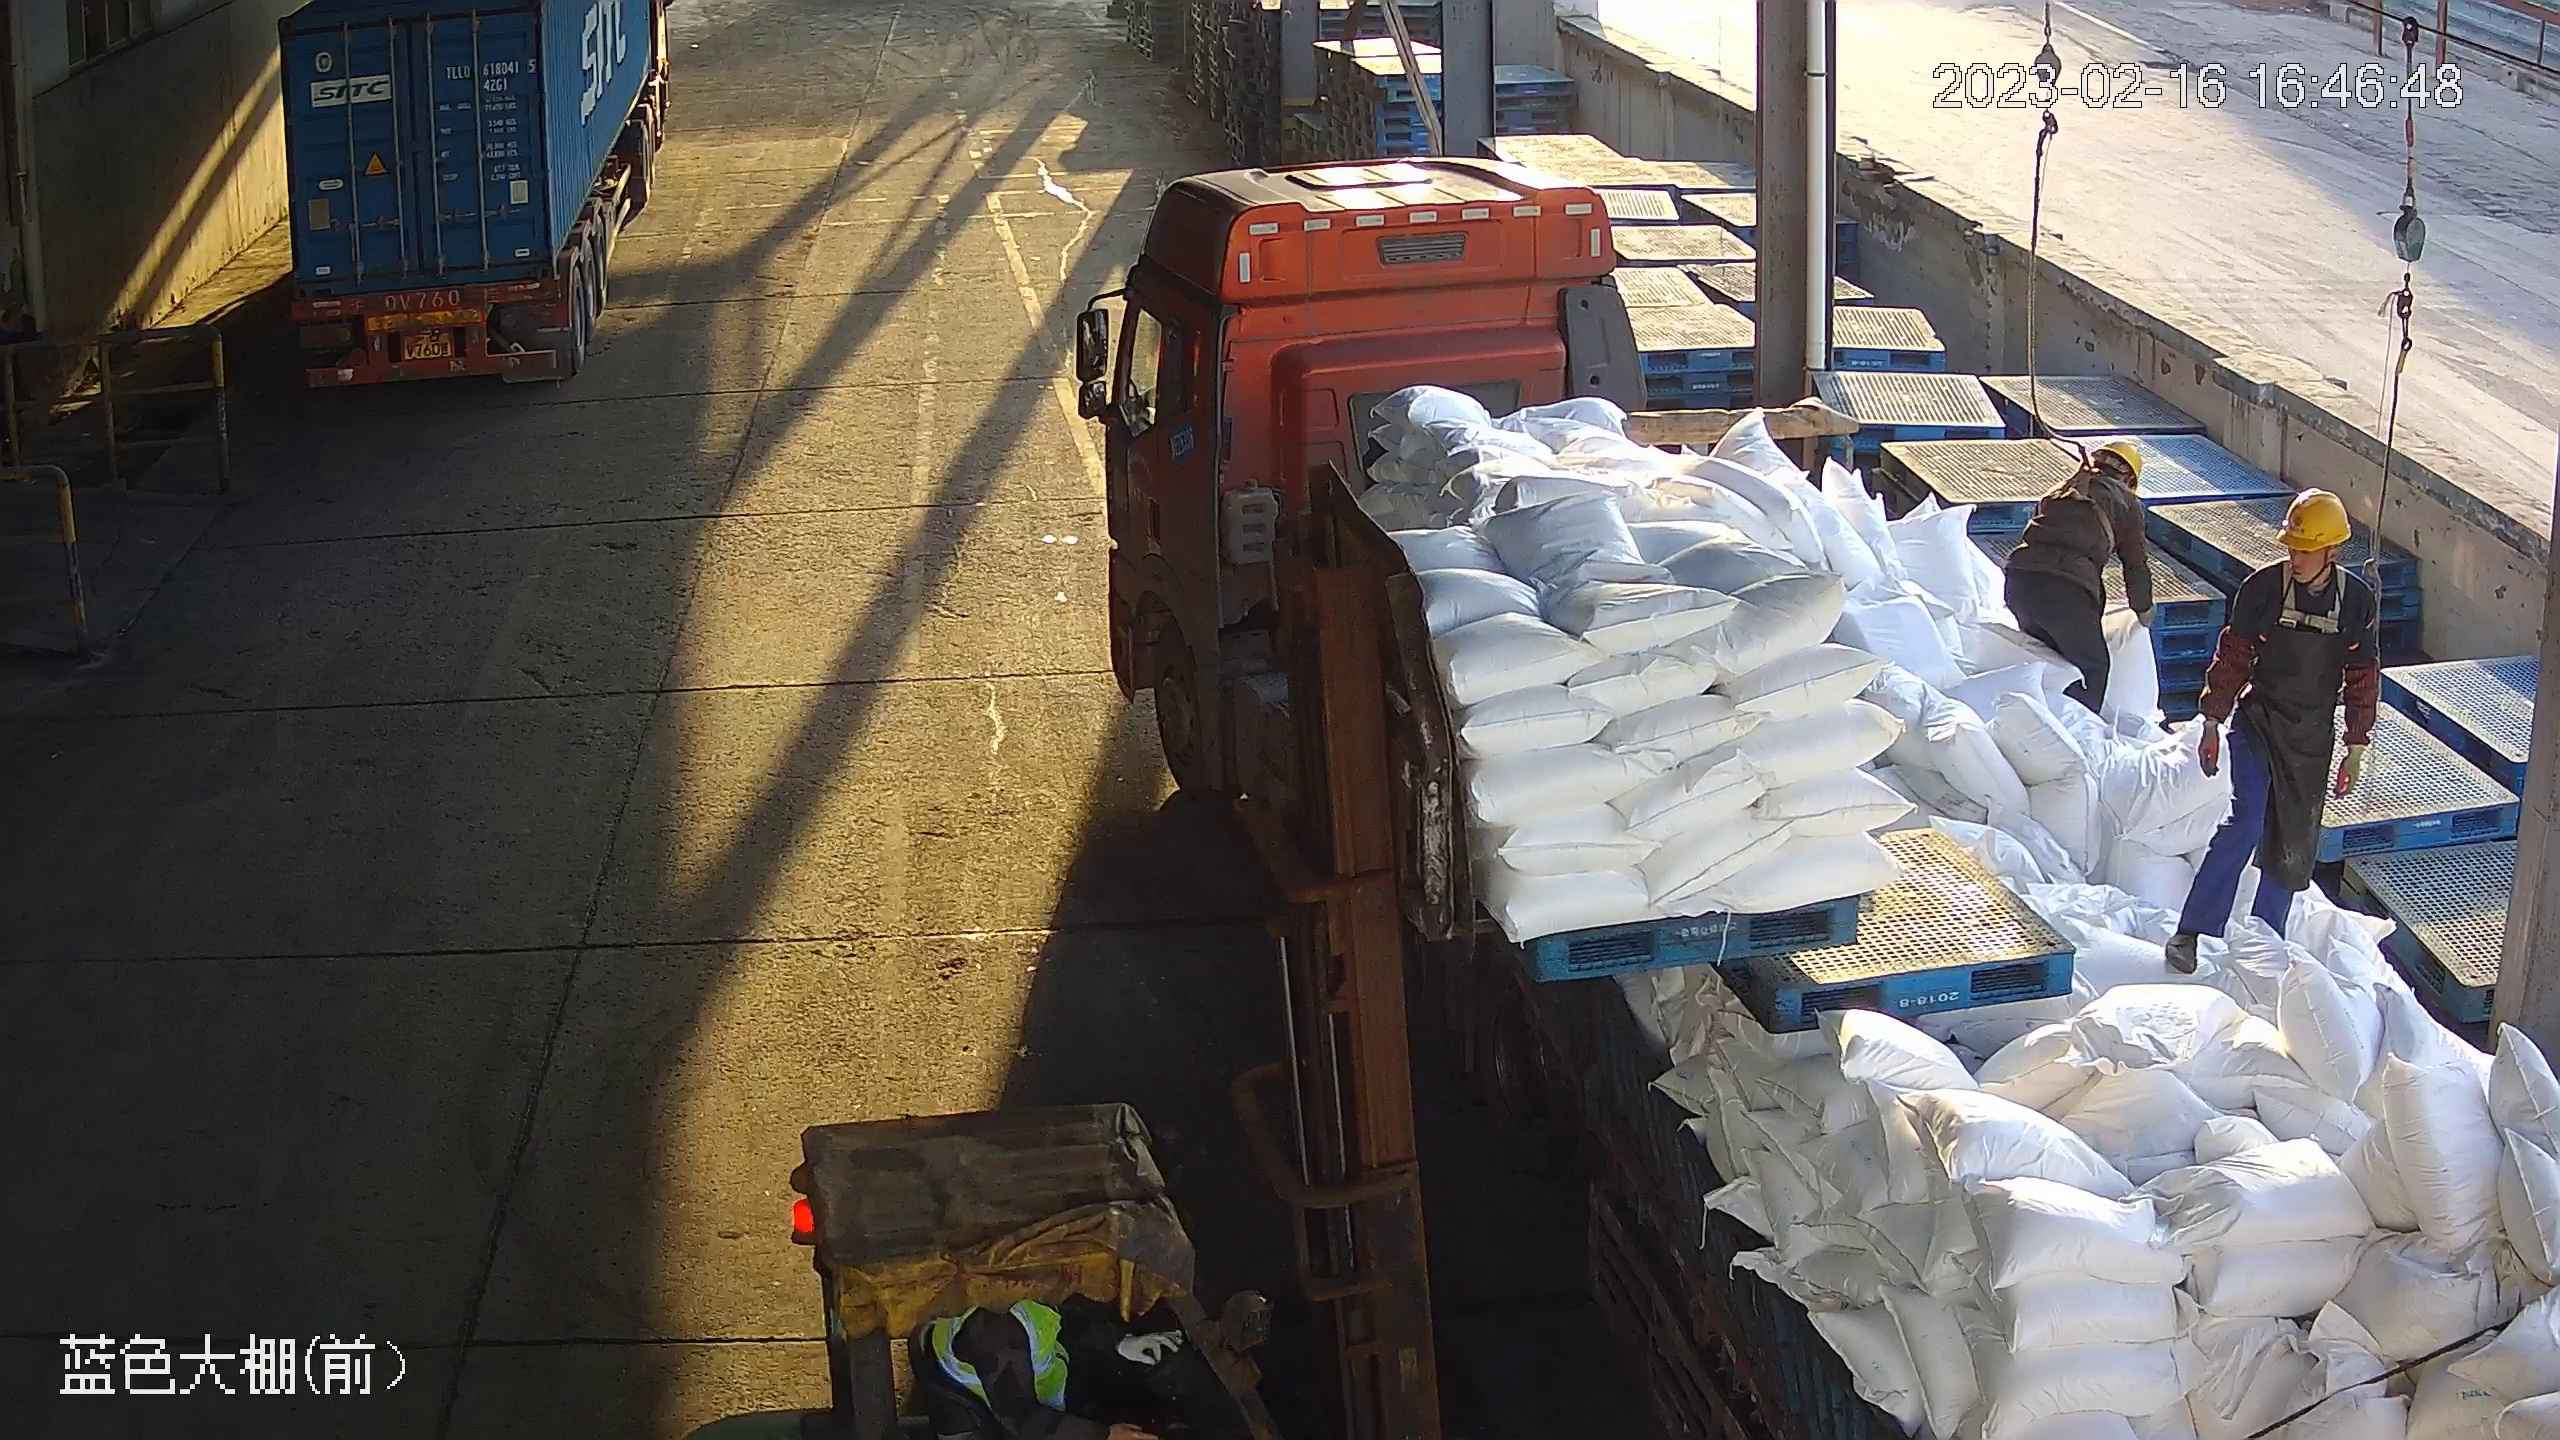belt: (2051, 454, 2120, 549), (2267, 562, 2352, 635)
head: (2218, 489, 2374, 674), (2022, 445, 2151, 566)
helmet: (2273, 489, 2349, 552), (2091, 440, 2144, 483)
people: (2167, 483, 2381, 971), (2001, 440, 2162, 720)
truck: (1067, 150, 2560, 1440), (274, 1, 674, 410)
